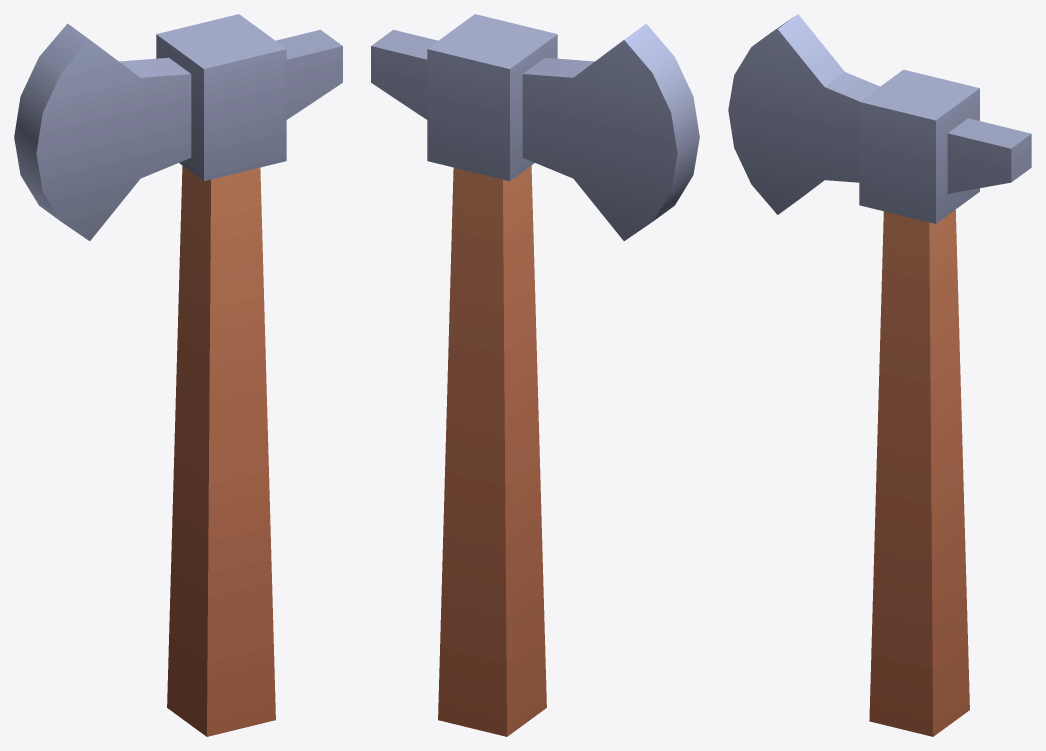
Rendered from k-survival-tool-axe.glb.
3 views of the same model, side by side, from view 1: azimuth 30°, elevation 25°; view 2: azimuth 150°, elevation 25°; view 3: azimuth 330°, elevation 25° (orthographic). The views are drawn at different scales.
Parts seen in each view (by area): view 1: tool-axe; view 2: tool-axe; view 3: tool-axe.
Part boxes in pixels (x1,y1,x2,y2): tool-axe: [14, 14, 342, 736]; tool-axe: [371, 14, 699, 736]; tool-axe: [728, 14, 1031, 736].
Size of the model in its own units: 0.1145 by 0.256 by 0.0309.
Materials: 1 (1 with a texture image).
